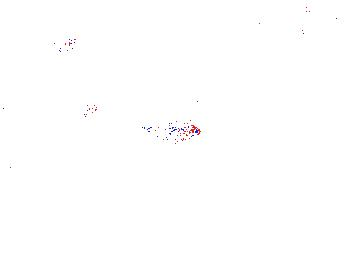X-ray fish: (1, 154, 61, 194)
red belly glassfish: (136, 119, 202, 142), (69, 100, 101, 119)
redtail glassfish: (39, 33, 82, 57)
